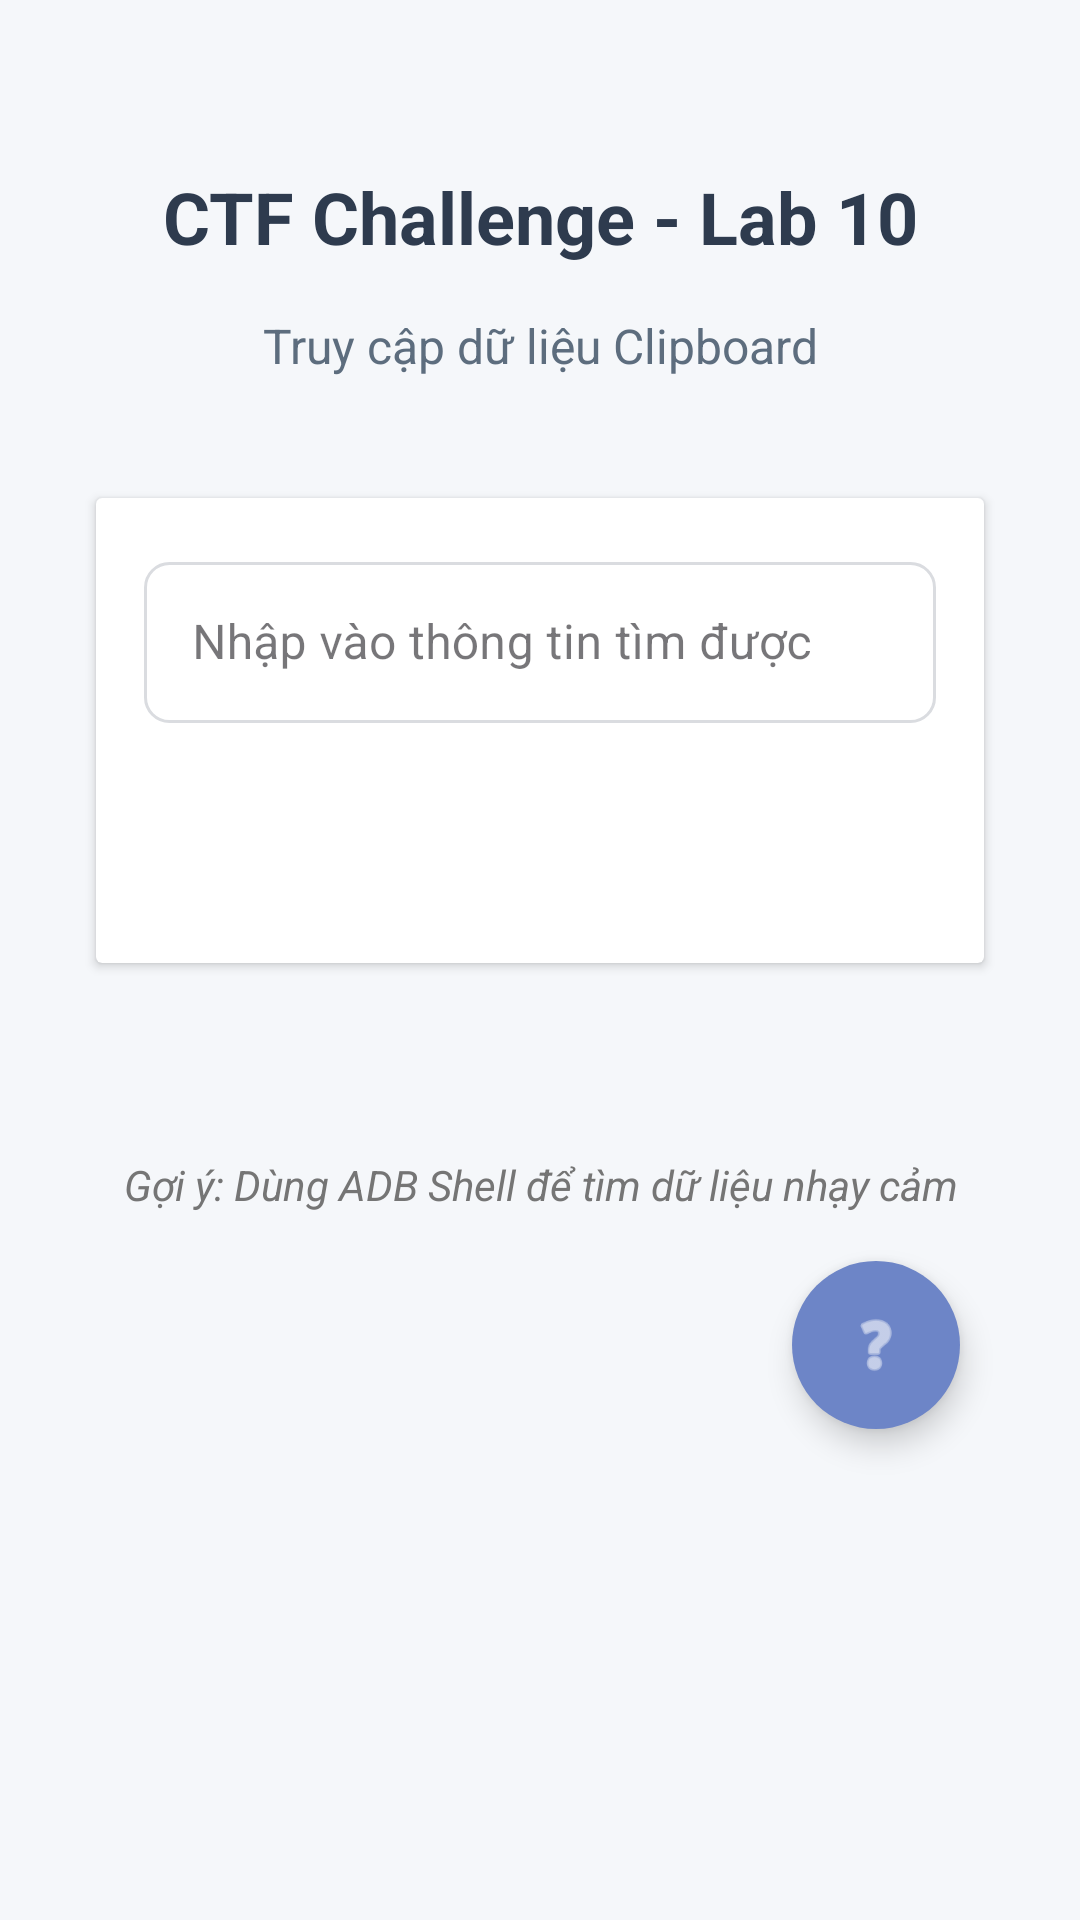

Icons on this 1080x1920 Android screen, each with the point to tap as (x=x, y=y):
Help: (x=876, y=1345)
